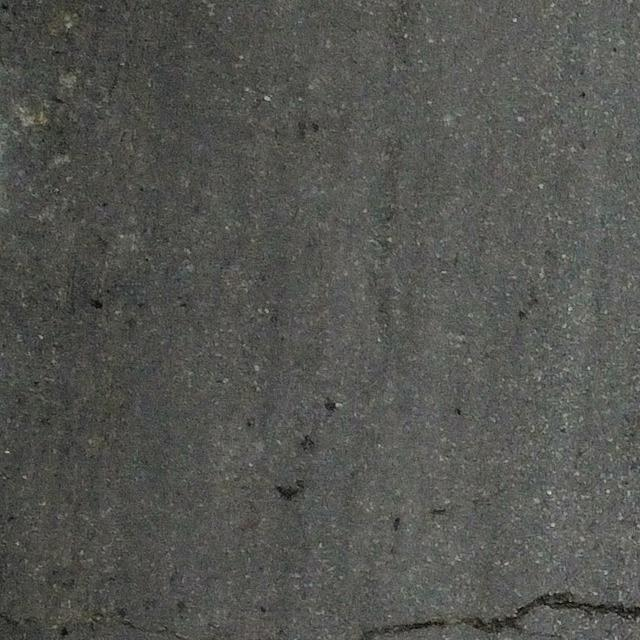TransverseCrack: (360, 591, 640, 639)
